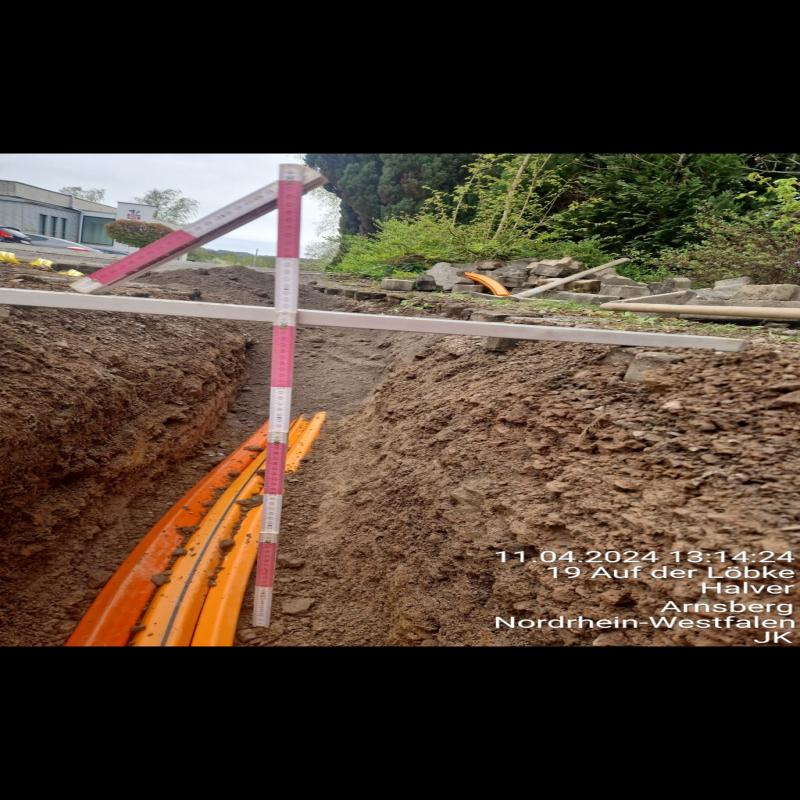Orang-Speednetrohrchen: (58, 418, 319, 647)
